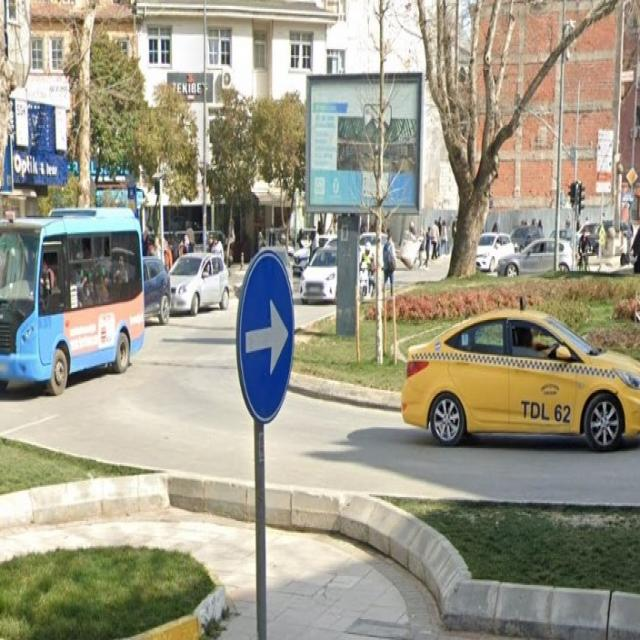Turn Right: (234, 251, 296, 419)
